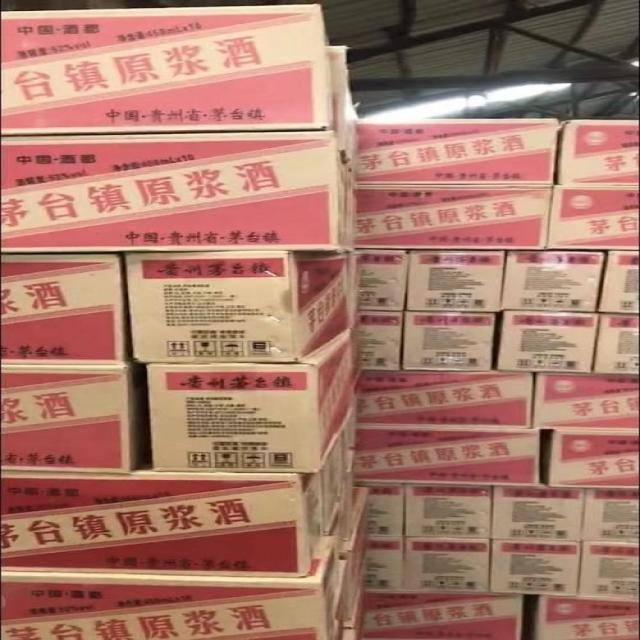box: (0, 4, 334, 135), (0, 130, 347, 254), (0, 467, 328, 578), (0, 534, 340, 639), (146, 330, 361, 474), (124, 250, 349, 365), (0, 363, 138, 473), (0, 254, 124, 365), (360, 118, 562, 184), (352, 184, 553, 249), (355, 426, 540, 485), (356, 370, 532, 429), (358, 590, 525, 639), (499, 250, 607, 311), (497, 311, 600, 373), (406, 251, 504, 315), (532, 373, 639, 431), (547, 184, 639, 249), (402, 312, 497, 371), (556, 118, 639, 185), (550, 429, 639, 489), (492, 486, 586, 541), (492, 539, 582, 596), (402, 538, 492, 592), (534, 594, 639, 640), (404, 485, 492, 538), (331, 46, 359, 182), (580, 541, 640, 600), (357, 249, 410, 310), (580, 489, 639, 543), (340, 486, 371, 585), (355, 311, 404, 370), (596, 250, 640, 314), (593, 314, 639, 374), (356, 483, 404, 537), (321, 436, 344, 535), (362, 536, 403, 591), (340, 581, 364, 639)
